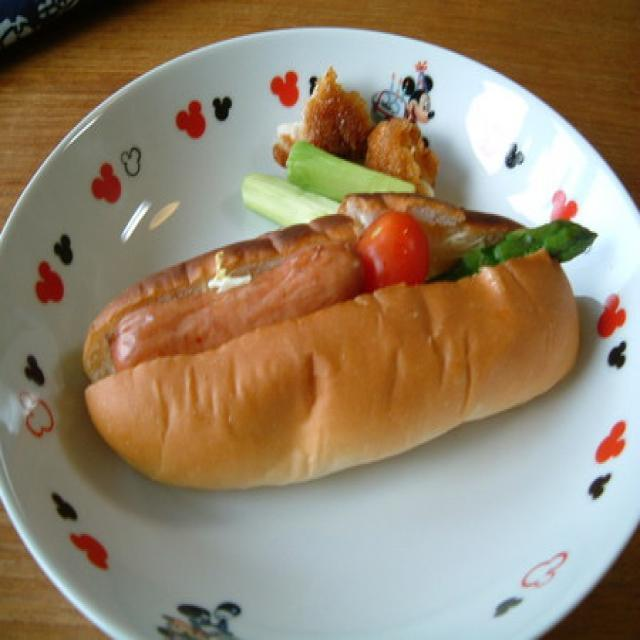Hot Dog: (73, 176, 600, 493)
